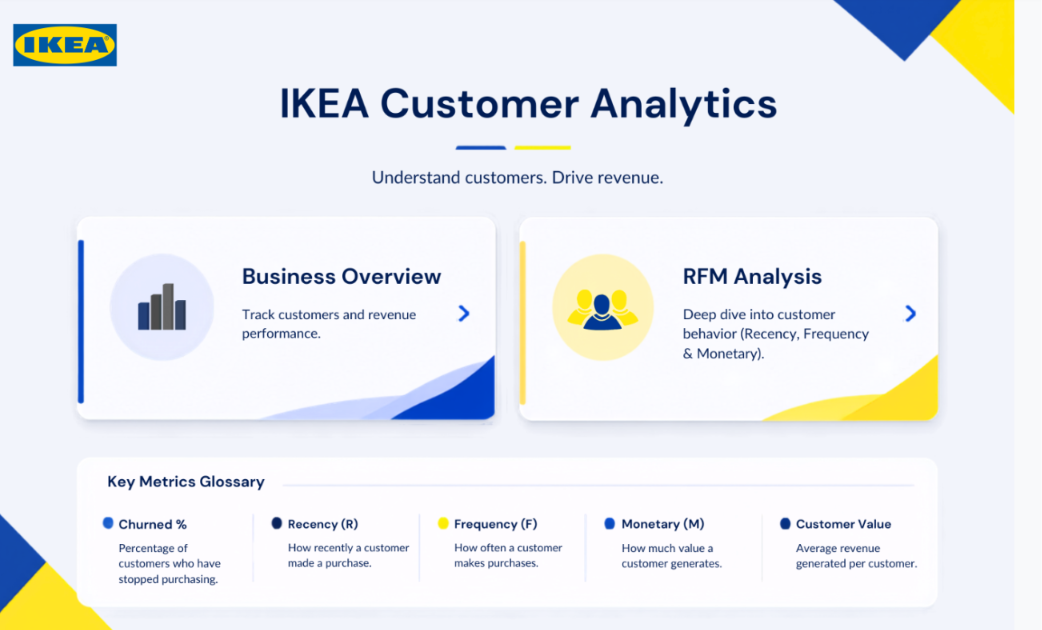

Layout of this report page (visuals, bound fields, positions):
{"tool":"powerbi","page":{"name":"Home","canvas":[1920,1080],"ordinal":0},"visuals":[{"type":"image","box":[0,0,1920,1080],"z":0},{"type":"image","box":[65,0,300,152.5],"z":1},{"type":"actionButton","box":[235,380,705,332.5],"z":2},{"type":"actionButton","box":[982.5,362.5,715,350],"z":3}]}

Visuals, with their boxes on the page's 1920x1080 design canvas (x1, y1, x2, y2). These are canvas units, not pixel positions in the 1042x630 screenshot, which may show the page scaled, cropped or inside an application window:
image: left=0, top=0, right=1920, bottom=1080
image: left=65, top=0, right=365, bottom=152
actionButton: left=235, top=380, right=940, bottom=712
actionButton: left=982, top=362, right=1698, bottom=712
